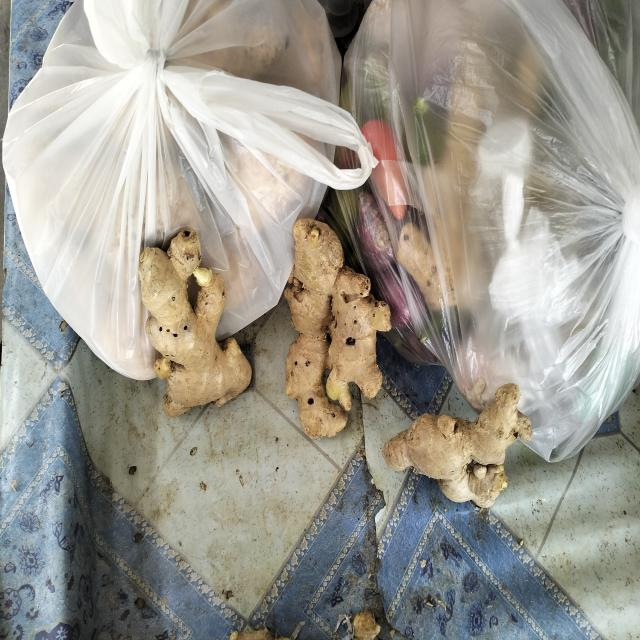ginger: (127, 230, 260, 427), (278, 209, 387, 437), (397, 384, 543, 526)
